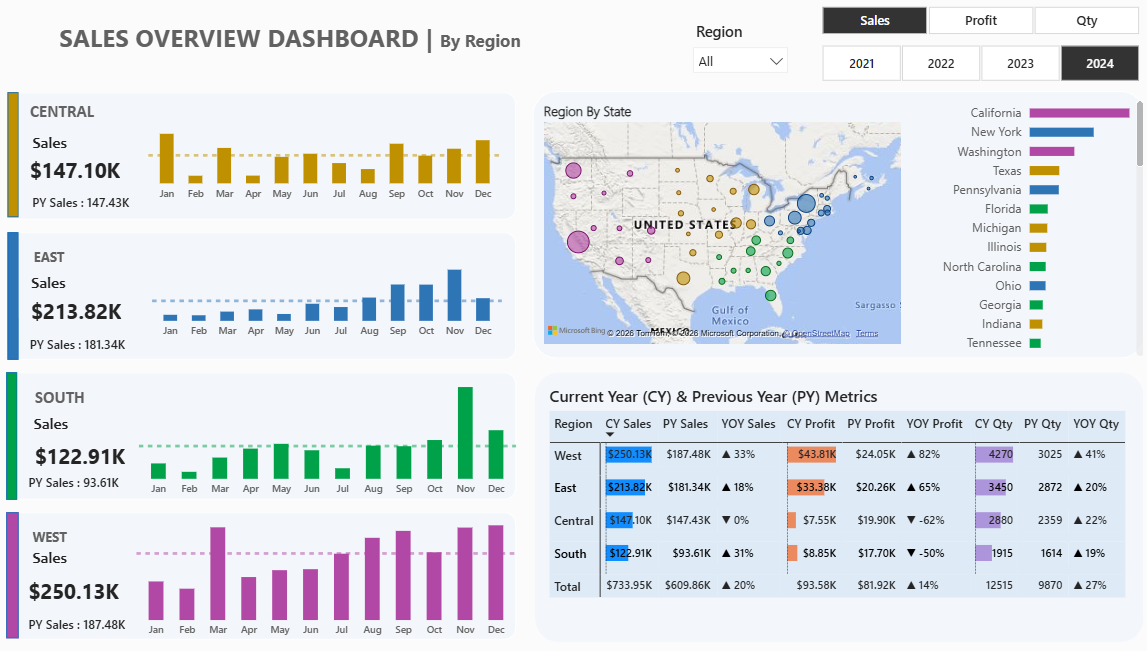

Layout of this report page (visuals, bound fields, positions):
{"tool":"powerbi","page":{"name":"Sales By Region","canvas":[1280,720],"ordinal":1},"visuals":[{"type":"shape","box":[19.2,105.7,558.5,140],"z":0},{"type":"shape","box":[19.2,105.7,12.3,137.2],"z":1000},{"type":"shape","box":[17.8,259.3,559.9,140],"z":2000},{"type":"shape","box":[19.2,259.1,12.3,140],"z":3000},{"type":"shape","box":[16.5,413,561.2,140],"z":4000},{"type":"shape","box":[17.8,413,12.3,140],"z":5000},{"type":"shape","box":[16.5,566.7,561.2,140],"z":6000},{"type":"shape","box":[17.8,566.7,13.7,138.6],"z":7000},{"type":"shape","box":[595.5,104.3,672.4,293.7],"z":8000},{"type":"shape","box":[598.3,413,668.3,296.4],"z":9000},{"type":"slicer","fields":{"Values":["Select Metric.Select Metric"]},"box":[893.3,9.6,387,34.3],"z":10000},{"type":"cardVisual","fields":{"Data":["Measure_Table.Total sales"]},"box":[31.6,174.3,129,30.2],"z":11000},{"type":"textbox","box":[43.9,115.3,85.1,30.2],"z":12000},{"type":"slicer","fields":{"Values":["Date_Table.Year"]},"box":[893.3,52.1,387,42.5],"z":13000},{"type":"cardVisual","fields":{"Data":["Measure_Table.Dynamic Title"]},"box":[34.3,144.1,78.2,30.2],"z":14000},{"type":"cardVisual","fields":{"Data":["Measure_Table.PY Sales"]},"box":[34.3,207.2,137.2,35.7],"z":15000},{"type":"clusteredColumnChart","fields":{"Y":["Measure_Table.Total sales"],"Category":["Date_Table.Month"]},"box":[157.8,107,419.9,137.2],"z":16000},{"type":"textbox","box":[19.2,27.4,620.2,48],"z":17000},{"type":"cardVisual","fields":{"Data":["Measure_Table.Total sales"]},"box":[32.9,329.3,124.9,30.2],"z":18000},{"type":"textbox","box":[48.4,277.9,85.1,30.2],"z":19000},{"type":"cardVisual","fields":{"Data":["Measure_Table.Dynamic Title"]},"box":[32.9,297.8,78.2,30.2],"z":20000},{"type":"cardVisual","fields":{"Data":["Measure_Table.PY Sales"]},"box":[31.6,366.4,140,28.8],"z":21000},{"type":"clusteredColumnChart","fields":{"Y":["Measure_Table.Total sales"],"Category":["Date_Table.Month"]},"box":[161.9,259.3,415.8,135.8],"z":22000},{"type":"cardVisual","fields":{"Data":["Measure_Table.Total sales"]},"box":[37.3,488.5,177,30.2],"z":23000},{"type":"textbox","box":[49.6,429.5,85.1,30.2],"z":24000},{"type":"cardVisual","fields":{"Data":["Measure_Table.Dynamic Title"]},"box":[35.7,452.8,78.2,30.2],"z":25000},{"type":"cardVisual","fields":{"Data":["Measure_Table.PY Sales"]},"box":[30.2,518.7,137.2,28.8],"z":26000},{"type":"clusteredColumnChart","fields":{"Y":["Measure_Table.Total sales"],"Category":["Date_Table.Month"]},"box":[163.3,415.8,414.4,137.2],"z":27000},{"type":"cardVisual","fields":{"Data":["Measure_Table.Total sales"]},"box":[30.2,636.7,130.4,30.2],"z":28000},{"type":"textbox","box":[46.5,584.4,85.1,30.2],"z":29000},{"type":"cardVisual","fields":{"Data":["Measure_Table.Dynamic Title"]},"box":[34.3,599.7,78.2,30.2],"z":30000},{"type":"cardVisual","fields":{"Data":["Measure_Table.PY Sales"]},"box":[30.2,673.8,137.2,28.8],"z":31000},{"type":"clusteredColumnChart","fields":{"Y":["Measure_Table.Total sales"],"Category":["Date_Table.Month"]},"box":[160.5,570.8,417.2,137.2],"z":32000},{"type":"map","title":"Region By State ","fields":{"Size":["Measure_Table.Total sales"],"Category":["Sales Data.State/Province"],"Series":["Sales Data.Region"]},"box":[607.9,115.3,392.5,266.2],"z":33000},{"type":"slicer","fields":{"Values":["Sales Data.Region"]},"box":[767.1,27.4,113.9,68.6],"z":34000},{"type":"barChart","fields":{"Y":["Measure_Table.Total sales"],"Category":["Sales Data.State/Province"],"Series":["Sales Data.Region"]},"box":[1000.3,107,266.2,288.2],"z":35000},{"type":"pivotTable","title":"Current Year (CY) & Previous Year (PY) Metrics","fields":{"Rows":["Sales Data.Region"],"Values":["Date_Table.CY sales","Date_Table.Previous sales","Measure_Table.YOY","Measure_Table.CY Profit","Measure_Table.Previous Profit","Measure_Table.YOY Profit","Measure_Table.CY Qty","Measure_Table.Previous Qty","Measure_Table.YOY Qty"]},"box":[598.3,413,672.4,285.4],"z":36000}]}

Visuals, with their boxes in screenshot pixels (x1, y1, x2, y2), scaled from the page's 1280x720 canvas onto the 1147x651 screenshot:
shape: {"left": 17, "top": 96, "right": 518, "bottom": 222}
shape: {"left": 17, "top": 96, "right": 28, "bottom": 220}
shape: {"left": 16, "top": 234, "right": 518, "bottom": 361}
shape: {"left": 17, "top": 234, "right": 28, "bottom": 361}
shape: {"left": 15, "top": 373, "right": 518, "bottom": 500}
shape: {"left": 16, "top": 373, "right": 27, "bottom": 500}
shape: {"left": 15, "top": 512, "right": 518, "bottom": 639}
shape: {"left": 16, "top": 512, "right": 28, "bottom": 638}
shape: {"left": 534, "top": 94, "right": 1136, "bottom": 360}
shape: {"left": 536, "top": 373, "right": 1135, "bottom": 641}
slicer - Select Metric.Select Metric: {"left": 800, "top": 9, "right": 1146, "bottom": 40}
cardVisual - Measure_Table.Total sales: {"left": 28, "top": 158, "right": 144, "bottom": 185}
textbox: {"left": 39, "top": 104, "right": 116, "bottom": 132}
slicer - Date_Table.Year: {"left": 800, "top": 47, "right": 1146, "bottom": 86}
cardVisual - Measure_Table.Dynamic Title: {"left": 31, "top": 130, "right": 101, "bottom": 158}
cardVisual - Measure_Table.PY Sales: {"left": 31, "top": 187, "right": 154, "bottom": 220}
clusteredColumnChart - Measure_Table.Total sales x Date_Table.Month: {"left": 141, "top": 97, "right": 518, "bottom": 221}
textbox: {"left": 17, "top": 25, "right": 573, "bottom": 68}
cardVisual - Measure_Table.Total sales: {"left": 29, "top": 298, "right": 141, "bottom": 325}
textbox: {"left": 43, "top": 251, "right": 120, "bottom": 279}
cardVisual - Measure_Table.Dynamic Title: {"left": 29, "top": 269, "right": 100, "bottom": 297}
cardVisual - Measure_Table.PY Sales: {"left": 28, "top": 331, "right": 154, "bottom": 357}
clusteredColumnChart - Measure_Table.Total sales x Date_Table.Month: {"left": 145, "top": 234, "right": 518, "bottom": 357}
cardVisual - Measure_Table.Total sales: {"left": 33, "top": 442, "right": 192, "bottom": 469}
textbox: {"left": 44, "top": 388, "right": 121, "bottom": 416}
cardVisual - Measure_Table.Dynamic Title: {"left": 32, "top": 409, "right": 102, "bottom": 437}
cardVisual - Measure_Table.PY Sales: {"left": 27, "top": 469, "right": 150, "bottom": 495}
clusteredColumnChart - Measure_Table.Total sales x Date_Table.Month: {"left": 146, "top": 376, "right": 518, "bottom": 500}
cardVisual - Measure_Table.Total sales: {"left": 27, "top": 576, "right": 144, "bottom": 603}
textbox: {"left": 42, "top": 528, "right": 118, "bottom": 556}
cardVisual - Measure_Table.Dynamic Title: {"left": 31, "top": 542, "right": 101, "bottom": 570}
cardVisual - Measure_Table.PY Sales: {"left": 27, "top": 609, "right": 150, "bottom": 635}
clusteredColumnChart - Measure_Table.Total sales x Date_Table.Month: {"left": 144, "top": 516, "right": 518, "bottom": 640}
"Region By State " map: {"left": 545, "top": 104, "right": 896, "bottom": 345}
slicer - Sales Data.Region: {"left": 687, "top": 25, "right": 789, "bottom": 87}
barChart - Measure_Table.Total sales x Sales Data.State/Province: {"left": 896, "top": 97, "right": 1135, "bottom": 357}
"Current Year (CY) & Previous Year (PY) Metrics" pivotTable: {"left": 536, "top": 373, "right": 1139, "bottom": 631}
